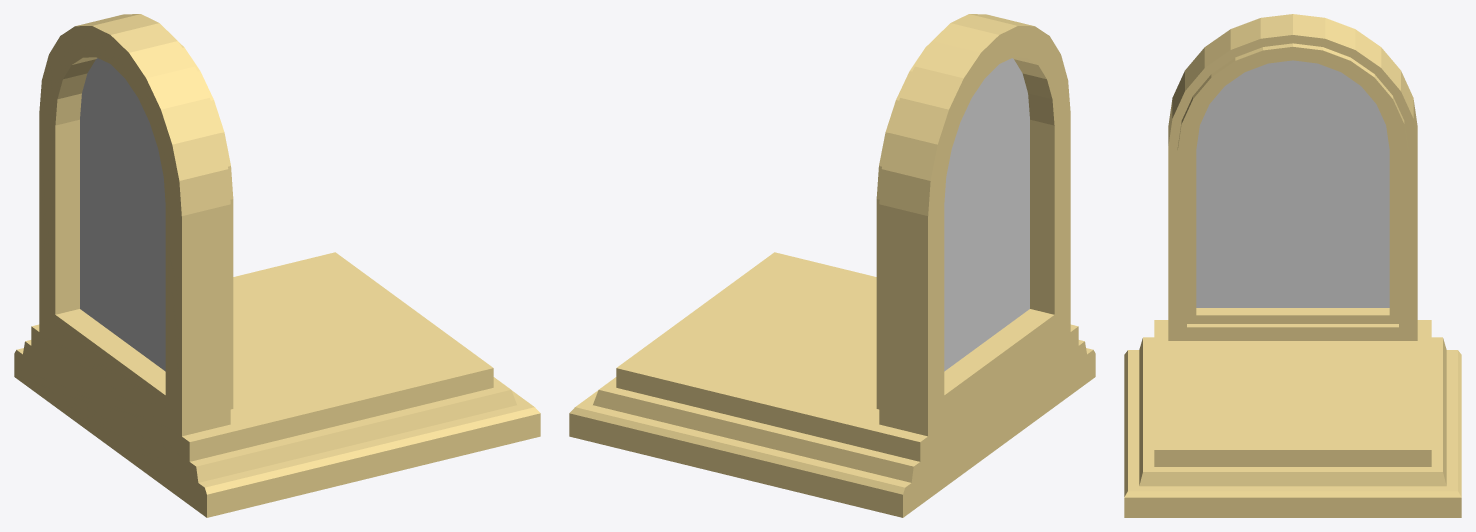
Rendered from Portal.fbx.
The picture shows the model from 3 angles, left to right: view 1: azimuth 30°, elevation 25°; view 2: azimuth 150°, elevation 25°; view 3: azimuth 270°, elevation 25°; orthographic projection. The views are drawn at different scales.
Visible parts, largest first — view 1: Portal, Tengah Portal; view 2: Portal, Tengah Portal; view 3: Portal, Tengah Portal.
Boxes of the visible parts, x1,y1,x2,y2 form: Portal: (14,14,540,517); Tengah Portal: (80,58,165,371); Portal: (569,14,1095,517); Tengah Portal: (944,58,1029,371); Portal: (1124,14,1461,517); Tengah Portal: (1196,60,1389,307).
Bounding box in the file's own units: 200 × 236 × 200.
